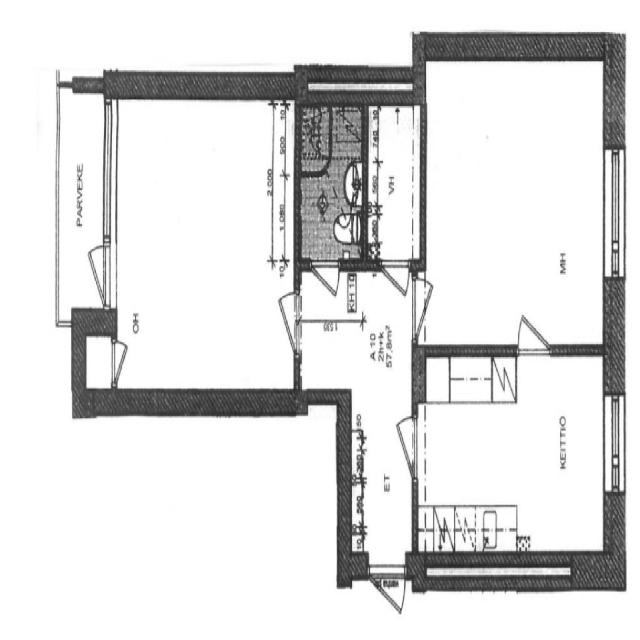door: (112, 100, 280, 397), (512, 307, 552, 361), (370, 564, 409, 618), (85, 238, 116, 305), (412, 271, 434, 343), (310, 257, 343, 301), (380, 256, 410, 300), (108, 338, 128, 386)
window: (600, 139, 630, 287), (96, 95, 122, 252), (602, 388, 628, 502), (271, 102, 292, 241), (264, 98, 281, 210)
zone: (432, 59, 607, 359), (112, 99, 282, 400), (414, 356, 614, 556), (349, 402, 414, 577), (368, 100, 422, 264), (296, 155, 366, 263)
